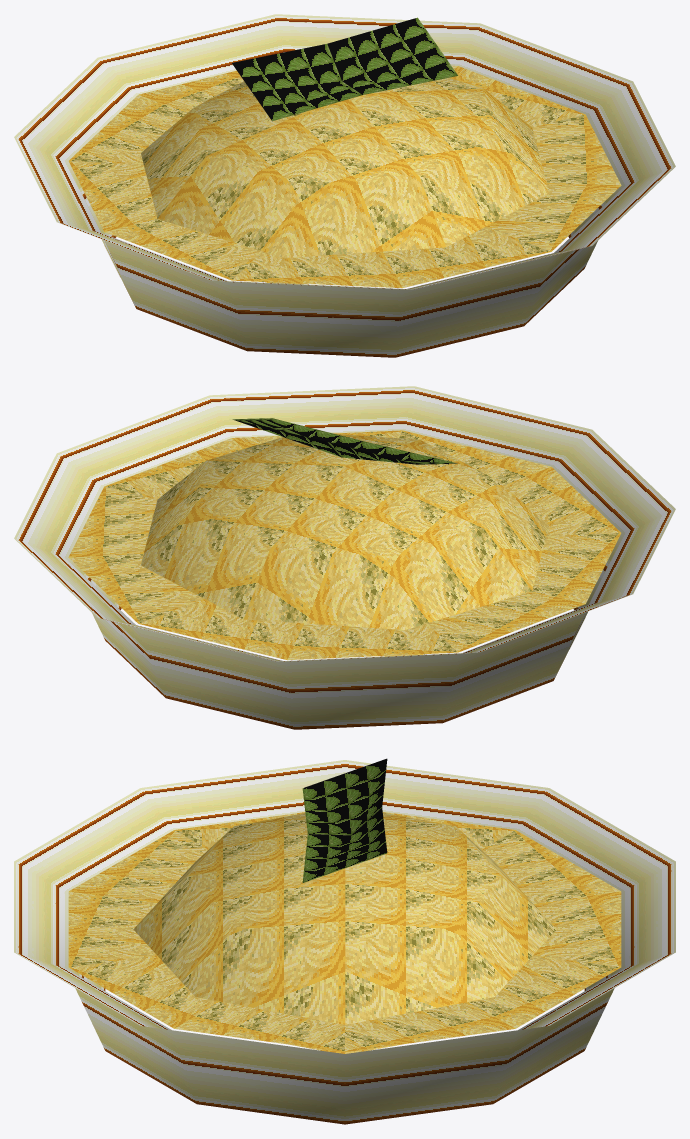
The model's file is spps_y.gltf.
3 views of the same model, one above another, from view 1: azimuth 30°, elevation 25°; view 2: azimuth 150°, elevation 25°; view 3: azimuth 270°, elevation 25° (orthographic). The views are drawn at different scales.
Visible parts, largest first — view 1: spps_y; view 2: spps_y; view 3: spps_y.
Boxes of the visible parts, <box> form: spps_y: <box>14,14,675,357</box>; spps_y: <box>14,386,675,729</box>; spps_y: <box>14,758,675,1124</box>.
Bounding box in the file's own units: 0.8091 × 0.2722 × 0.7695.
3 materials, 3 textured.
